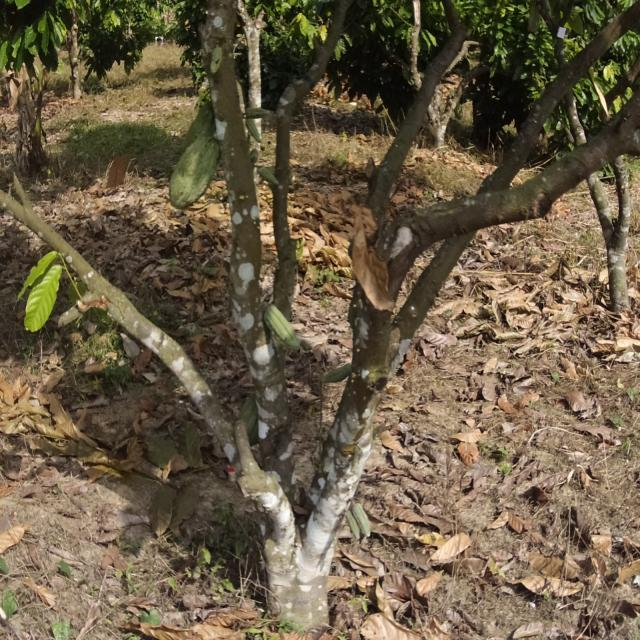Immature: (264, 297, 311, 367), (338, 495, 380, 553), (240, 105, 274, 145), (322, 363, 358, 391), (255, 159, 282, 195)
Mature_Unripe: (166, 129, 223, 213)
